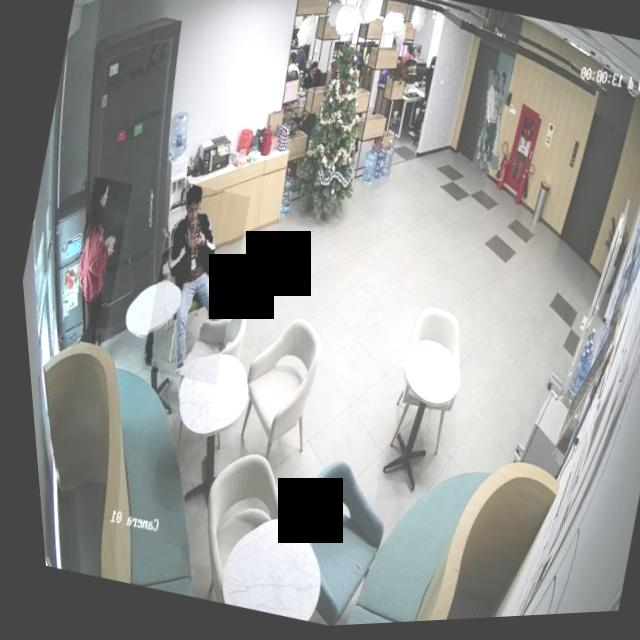person: (123, 180, 258, 390), (48, 175, 139, 349), (461, 73, 518, 177), (297, 62, 323, 95)
